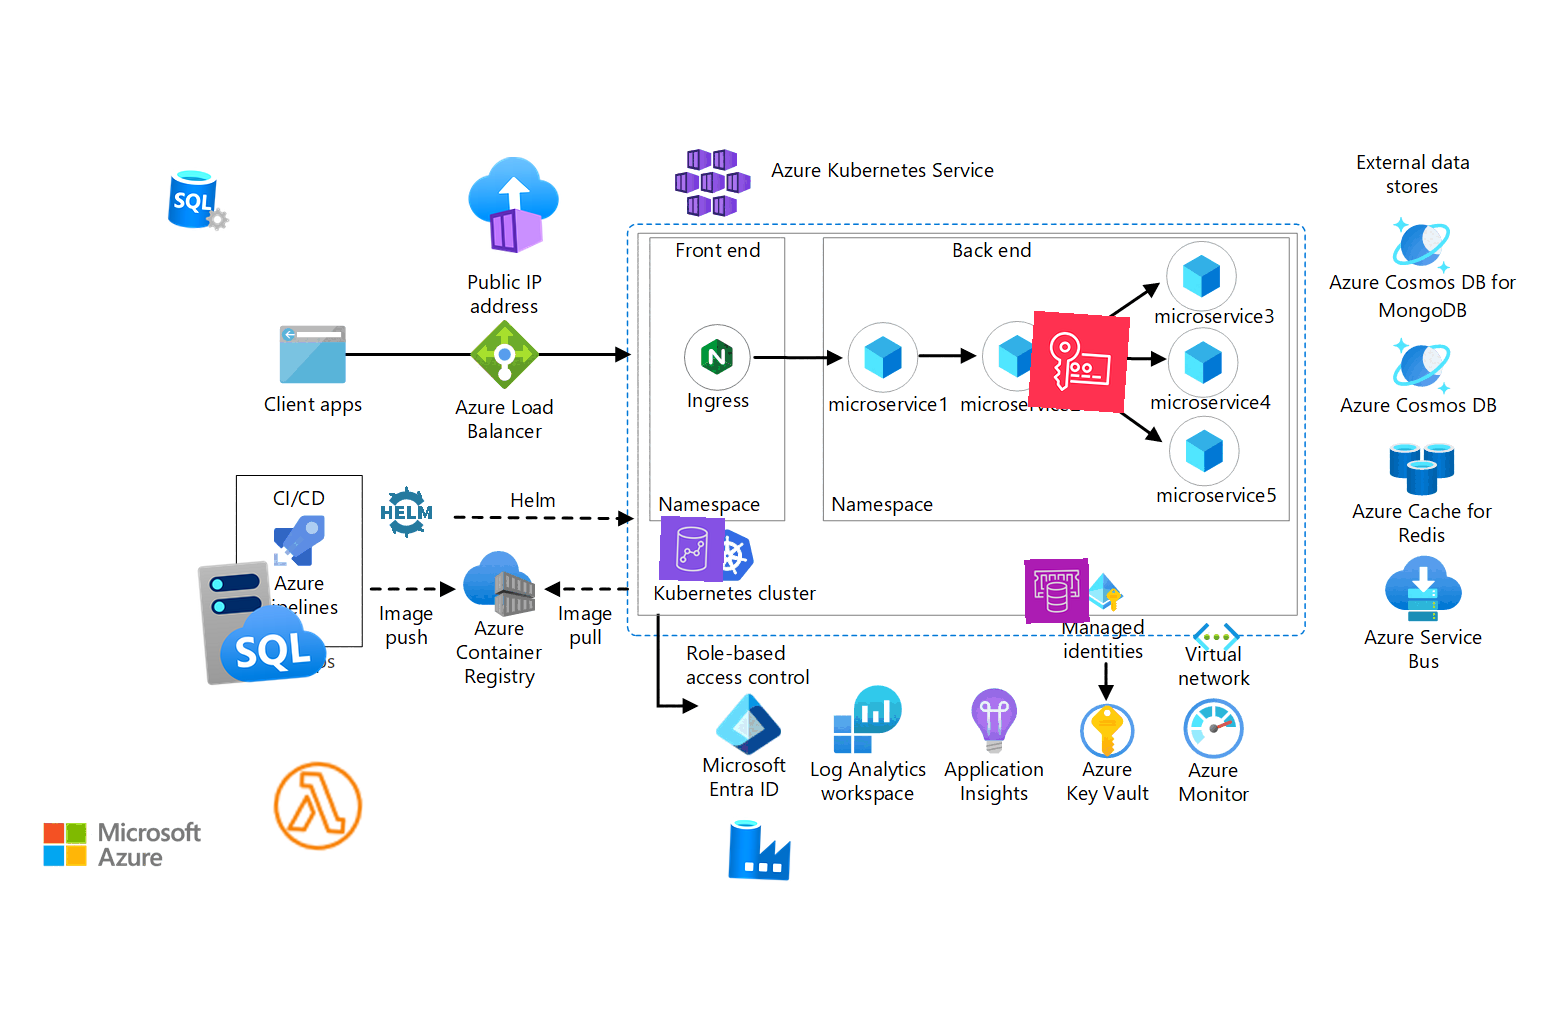aws_amazon_elasticache: (1024, 558, 1090, 624)
aws_amazon_redshift: (658, 515, 726, 583)
aws_key_management_service: (1027, 309, 1131, 414)
aws_lambda_lambda_function: (267, 755, 369, 857)
azure_container_instances: (463, 154, 565, 256)
azure_data_factories: (726, 815, 794, 883)
azure_sql_managed_instance: (192, 551, 333, 691)
azure_sql_server: (165, 164, 235, 234)
